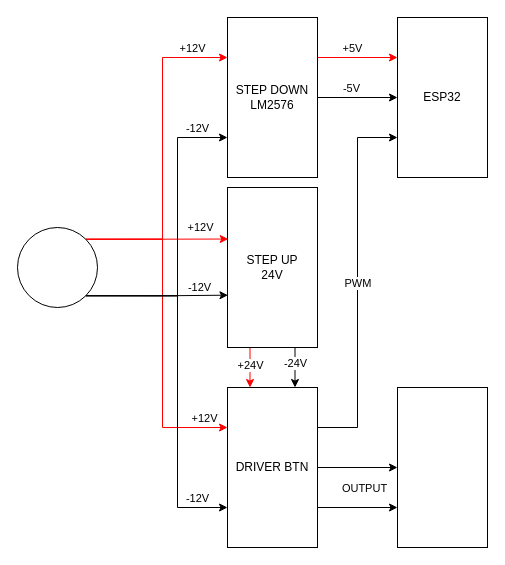
The diagram is 505 pixels wide and 565 high, and some of its shapes have lost their labels. Here are the shapes that lost their labels. From the top down, the centre of each, then its label:
the point at 57,267: + 12V -
the point at 442,467: MOTOR 24V
